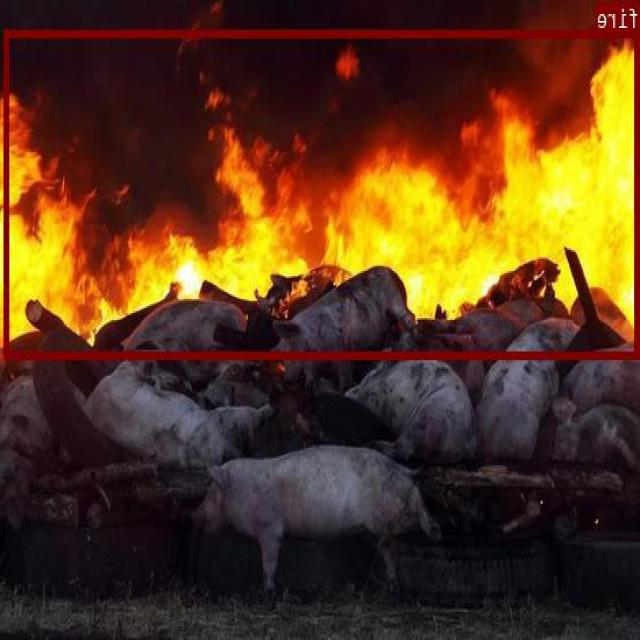fire: (5, 28, 640, 356)
